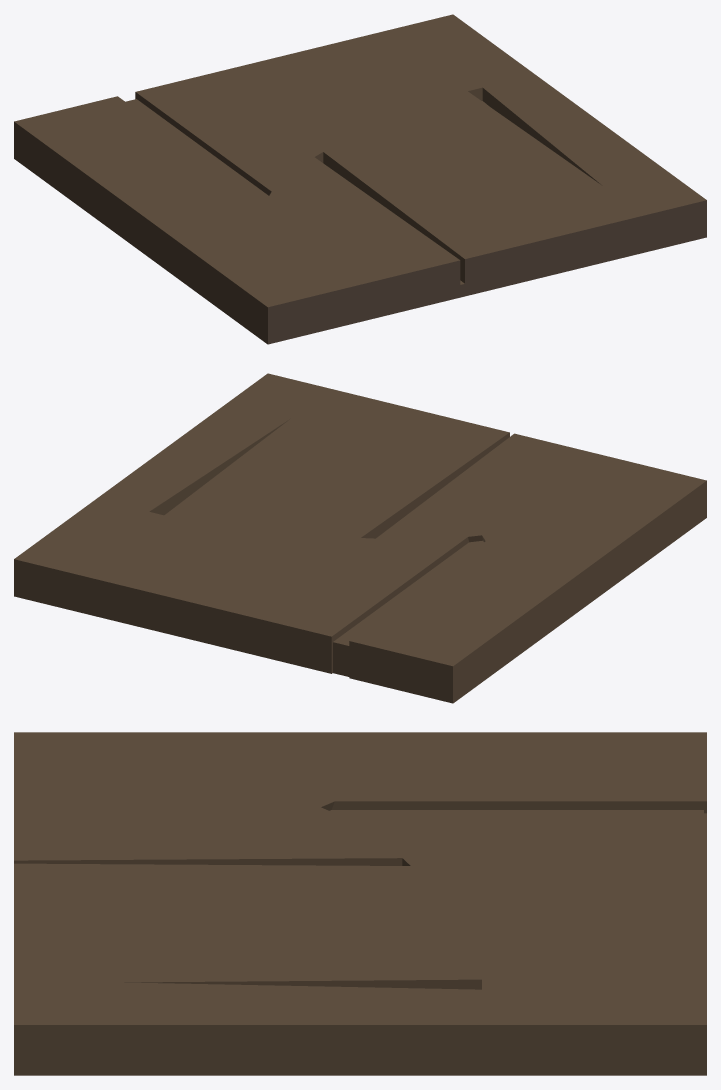
Rendered from Platform 1x1.fbx.
The picture shows the model from 3 angles, top to bottom: view 1: azimuth 30°, elevation 25°; view 2: azimuth 150°, elevation 25°; view 3: azimuth 270°, elevation 25°; orthographic projection. The views are drawn at different scales.
Visible parts, largest first — view 1: Куб.051; view 2: Куб.051; view 3: Куб.051.
Part boxes in pixels (x1=…): Куб.051: x1=14, y1=14, x2=706, y2=344; Куб.051: x1=14, y1=373, x2=706, y2=703; Куб.051: x1=14, y1=732, x2=706, y2=1075.
Size of the model in its own units: 12.99 by 1.05 by 13.
